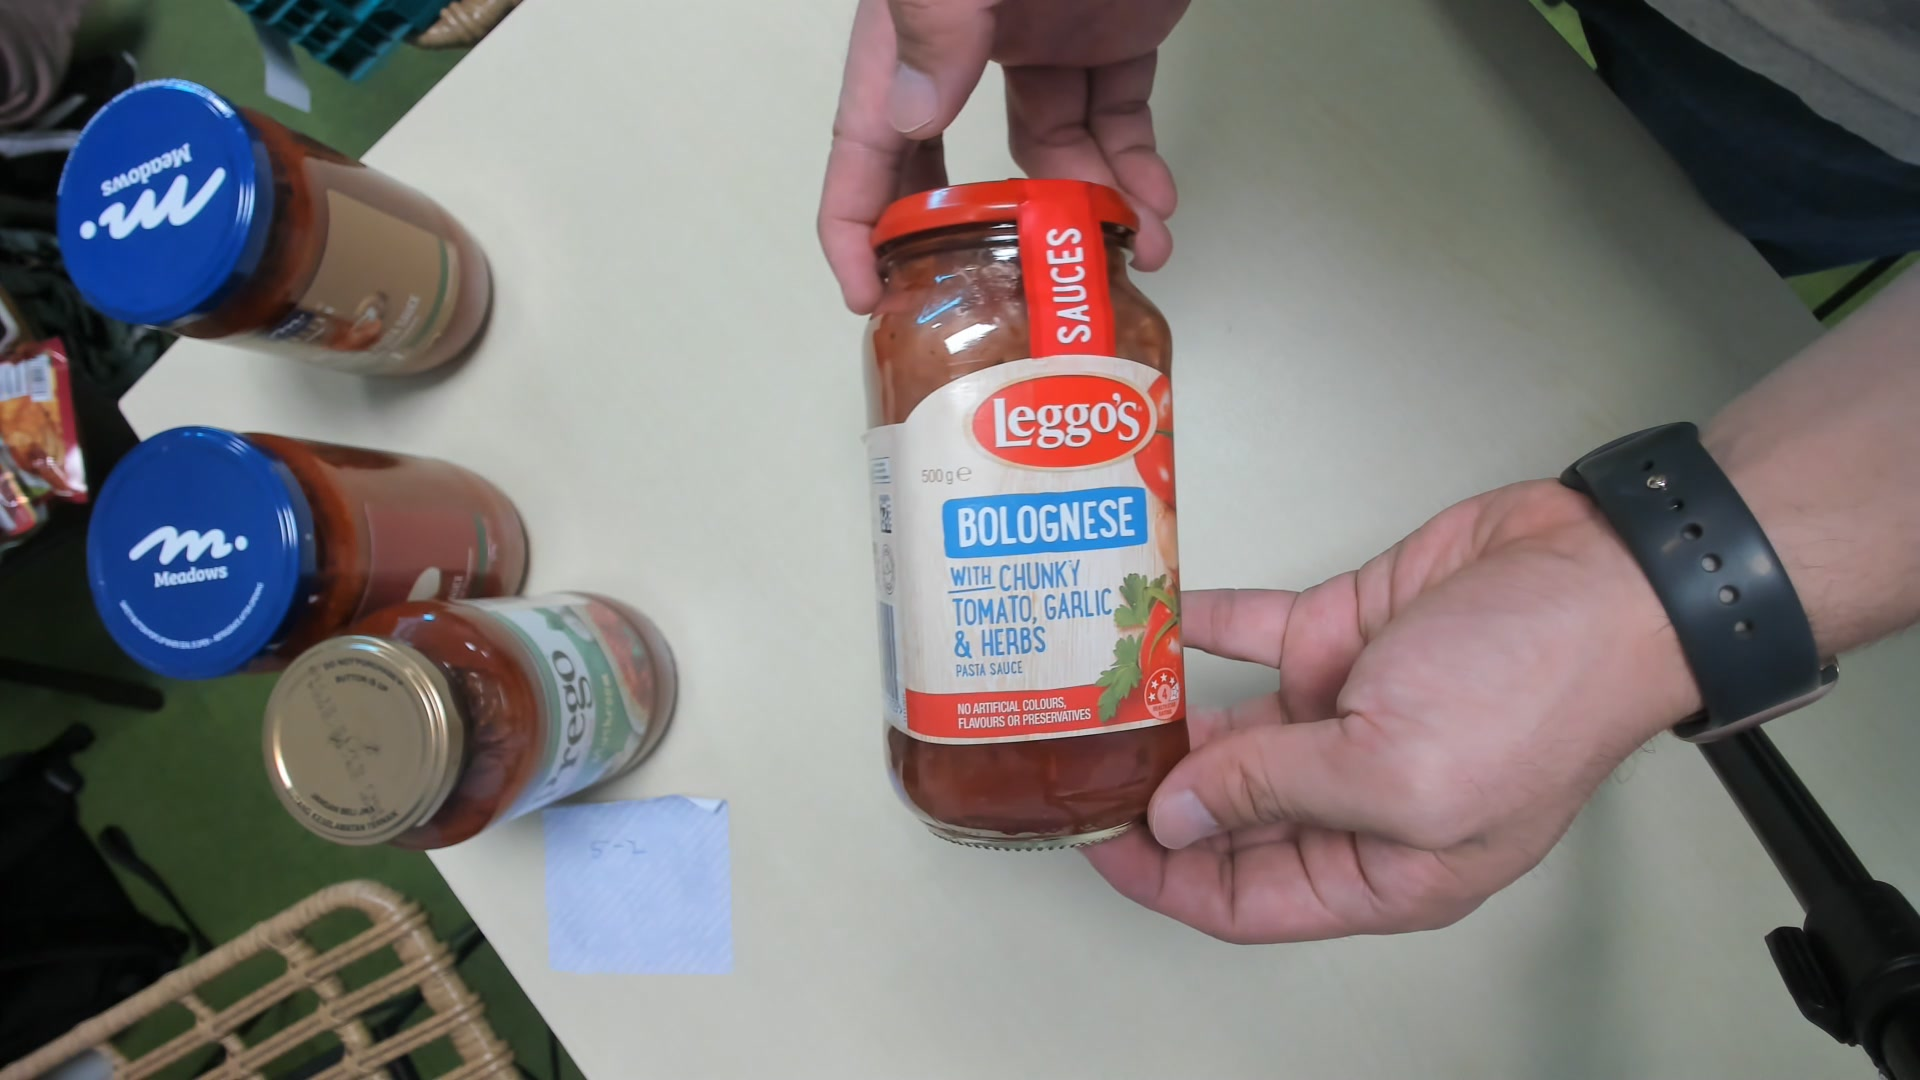PastaSauce_500-599g_Halal_NonHealthy: (872, 175, 1187, 847)
